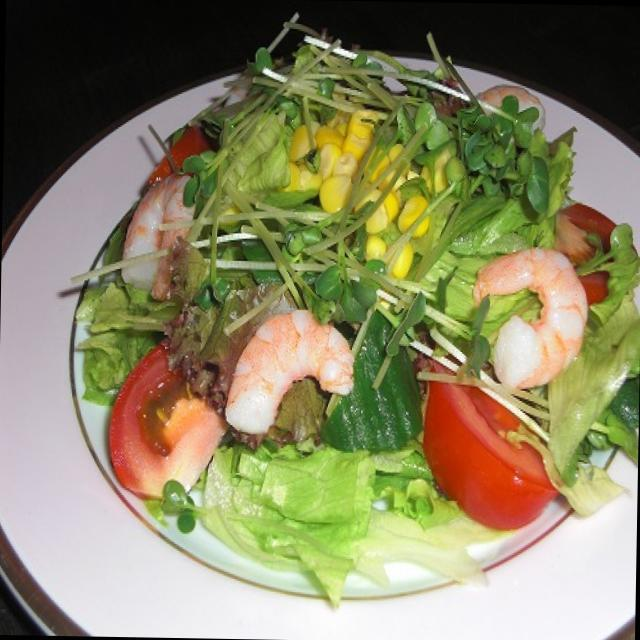Green Salad: (102, 54, 631, 532)
